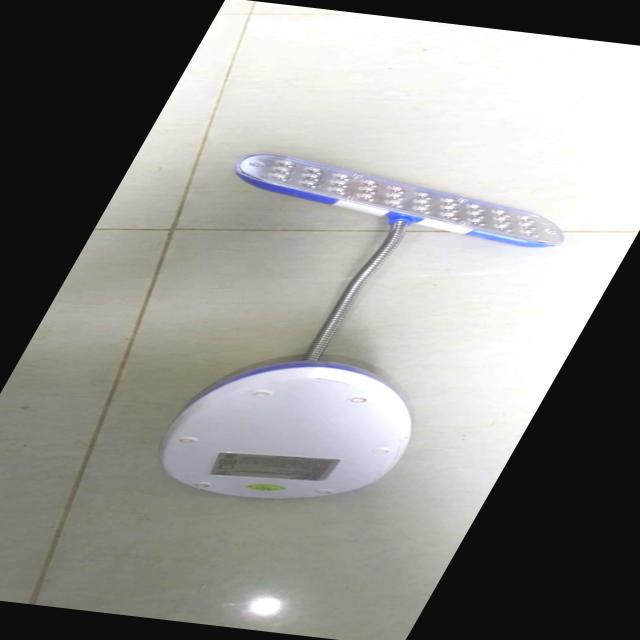Lantern: (9, 142, 632, 528)
